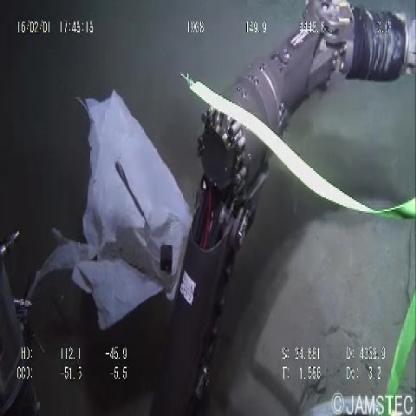Rov: (151, 7, 416, 414)
Rác: (57, 83, 192, 336)
